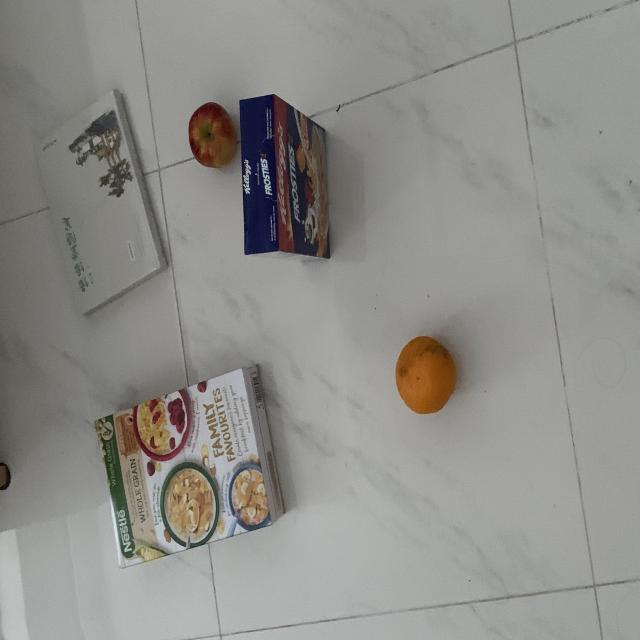Apple: (186, 98, 240, 171)
Book: (32, 90, 172, 324)
Cerealbox: (94, 359, 287, 573), (237, 90, 334, 264)
Orange: (395, 332, 460, 417)
